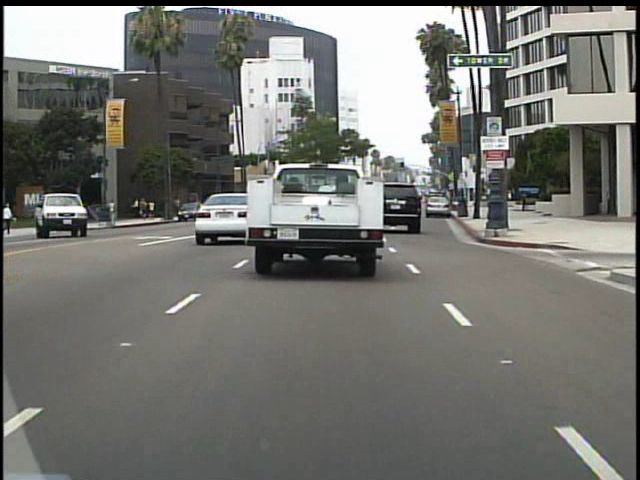person: (4, 198, 20, 236), (61, 192, 77, 230), (55, 200, 71, 235), (111, 197, 119, 225)
